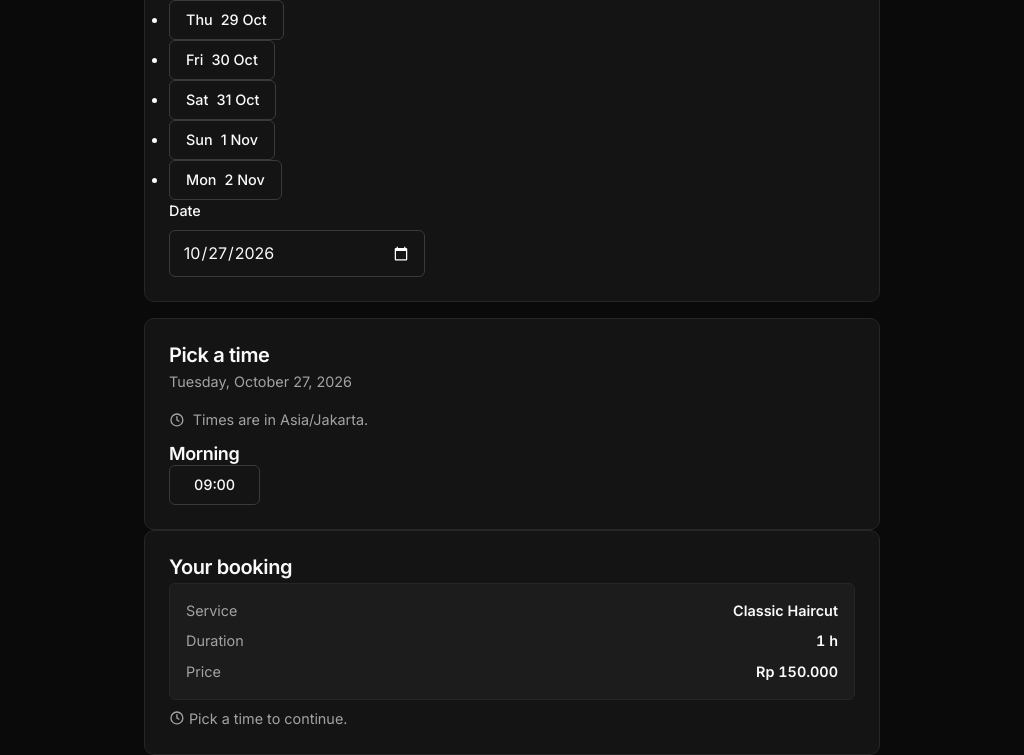
Scenario: BookingPage progress and summary › moves to "Confirm" and shows a summary of the booking after choosing a time
The width and height of the screenshot is (1024, 755).
(page scrolled)
Click the button "09:00". click: [215, 485]
box: left=169, top=465, right=260, bottom=505
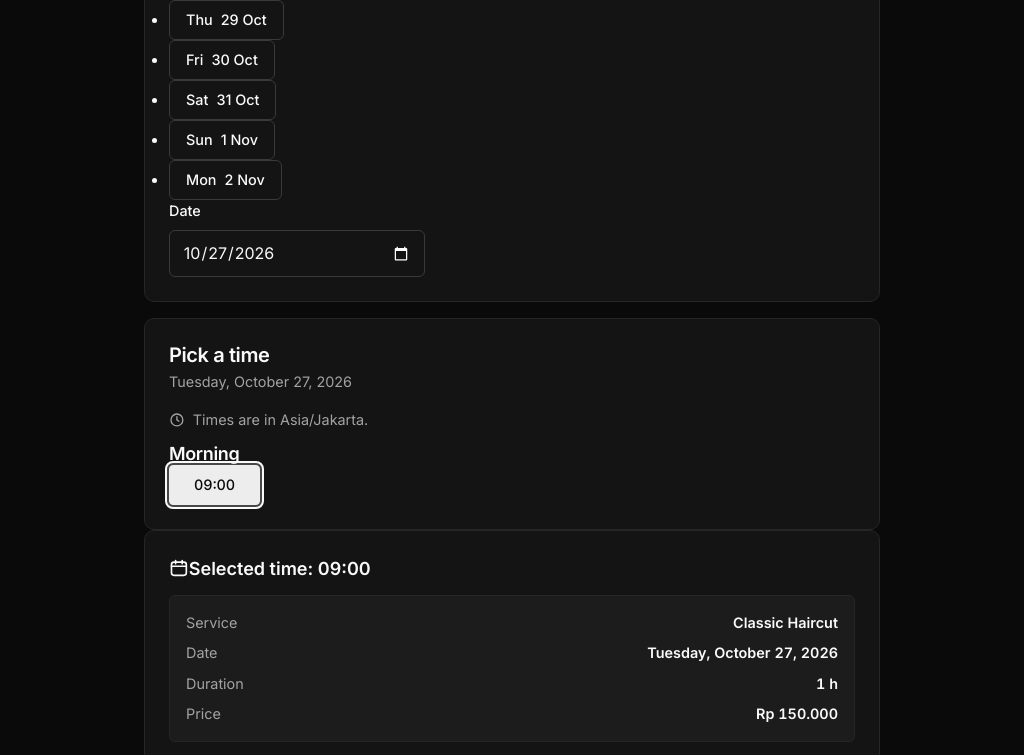
Expected: the text "Classic Haircut" is shown, left=733, top=614, right=838, bottom=631
Result: the text "Selected time: 09:00" is shown at left=169, top=558, right=371, bottom=579
Result: the text "Tuesday, October 27, 2026" below "Selected time: 09:00" is shown at left=647, top=644, right=838, bottom=661
